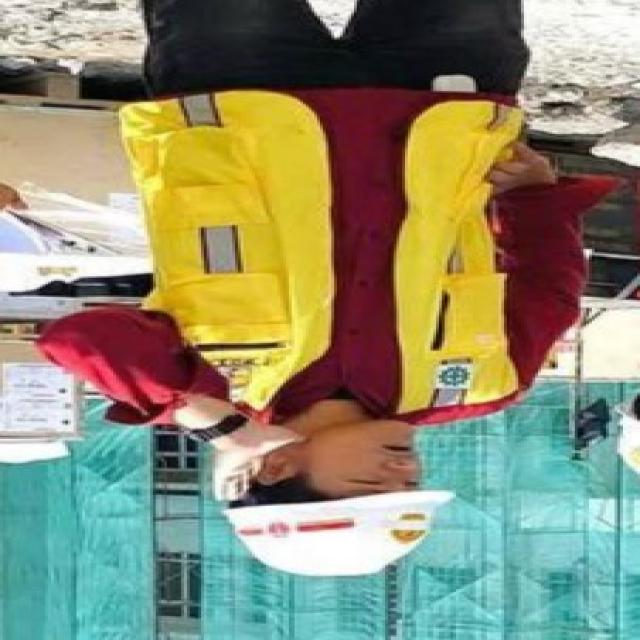safetyhelmet: (202, 399, 454, 584)
